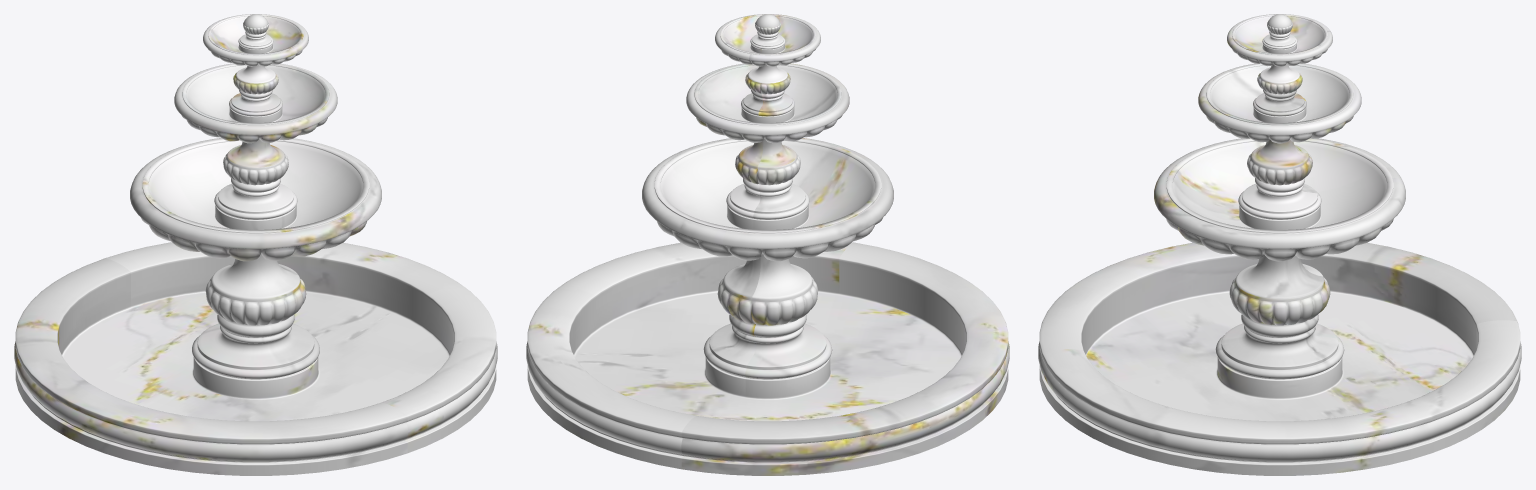
The model's file is Fountain.glb.
3 renders of one model, left to right at view 1: azimuth 30°, elevation 25°; view 2: azimuth 150°, elevation 25°; view 3: azimuth 270°, elevation 25°, orthographic.
Visible parts, largest first — view 1: Fountain; view 2: Fountain; view 3: Fountain.
Boxes of the visible parts, x1=… form: Fountain: x1=14, y1=14, x2=497, y2=475; Fountain: x1=526, y1=14, x2=1009, y2=475; Fountain: x1=1038, y1=14, x2=1521, y2=475.
Size of the model in its own units: 20.74 by 16.99 by 20.74.
Materials: 1 (1 with a texture image).
